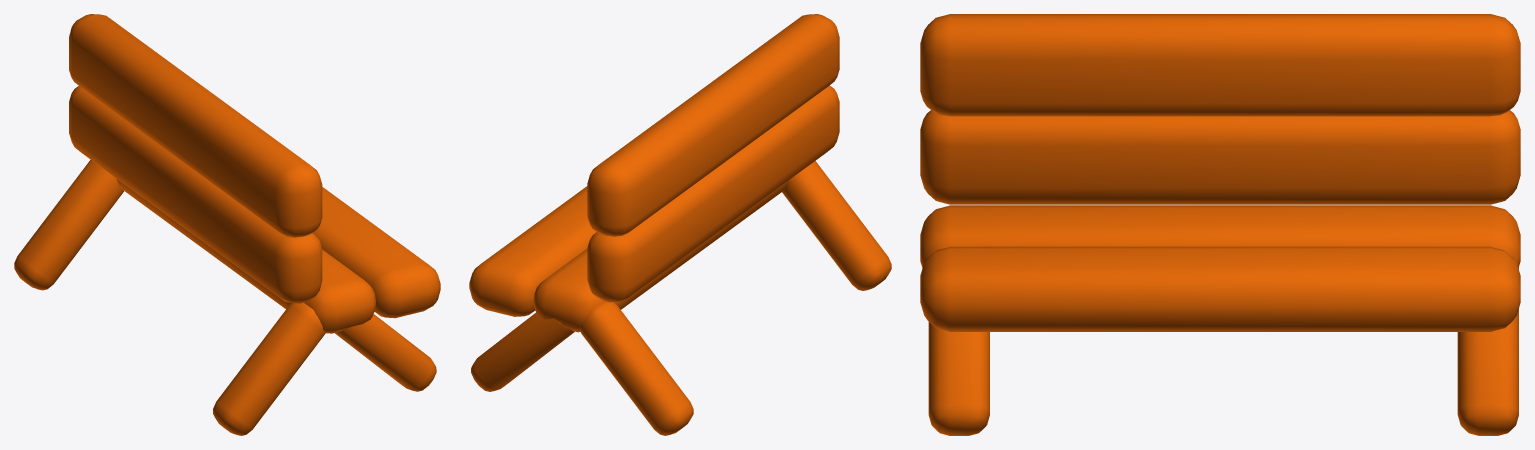
The model's file is Bankje.fbx.
The picture shows the model from 3 angles, left to right: view 1: azimuth 30°, elevation 25°; view 2: azimuth 150°, elevation 25°; view 3: azimuth 270°, elevation 25°; orthographic projection. The views are drawn at different scales.
Visible parts, largest first — view 1: Cube.027; view 2: Cube.027; view 3: Cube.027.
Boxes of the visible parts, x1,y1,x2,y2 form: Cube.027: [14, 14, 440, 435]; Cube.027: [469, 14, 891, 435]; Cube.027: [920, 14, 1520, 435].
Bounding box in the file's own units: 110 × 125 × 200.
